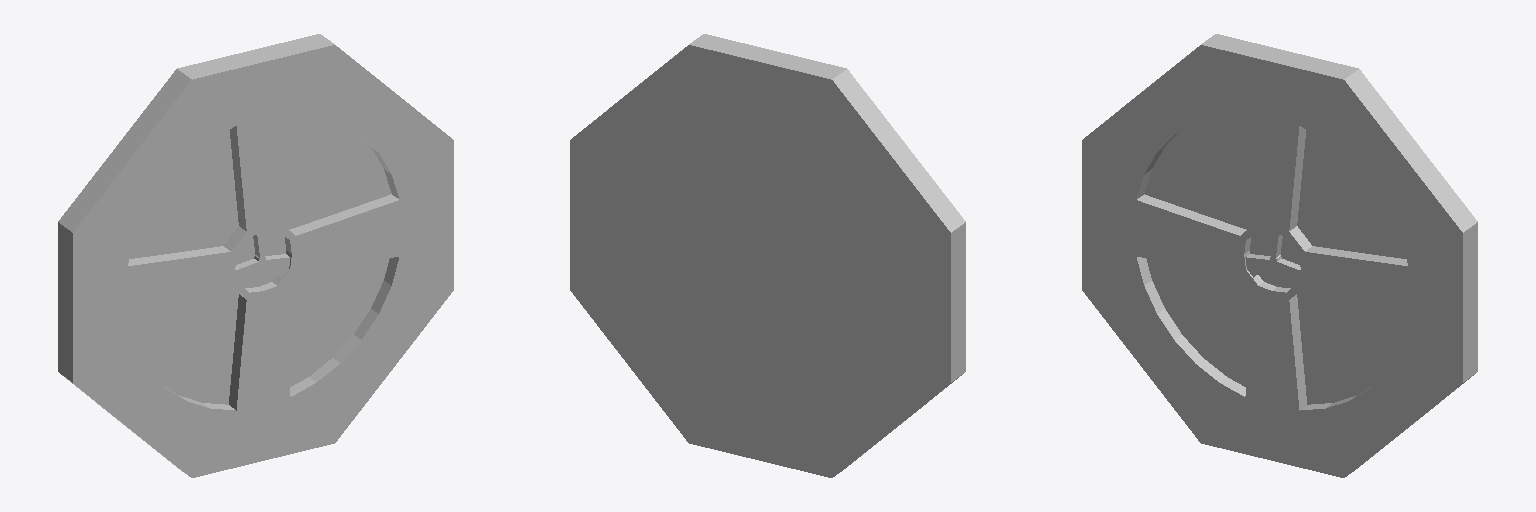
File: door_inner.obj
3 renders of one model, left to right at view 1: azimuth 30°, elevation 25°; view 2: azimuth 150°, elevation 25°; view 3: azimuth 330°, elevation 25°, orthographic.
Parts seen in each view (by area): view 1: Cube_Cube.001; view 2: Cube_Cube.001; view 3: Cube_Cube.001.
Boxes of the visible parts, x1=… form: Cube_Cube.001: x1=58, y1=34, x2=453, y2=477; Cube_Cube.001: x1=570, y1=34, x2=965, y2=477; Cube_Cube.001: x1=1082, y1=34, x2=1477, y2=477.
Bounding box in the file's own units: 8 × 8 × 0.551.